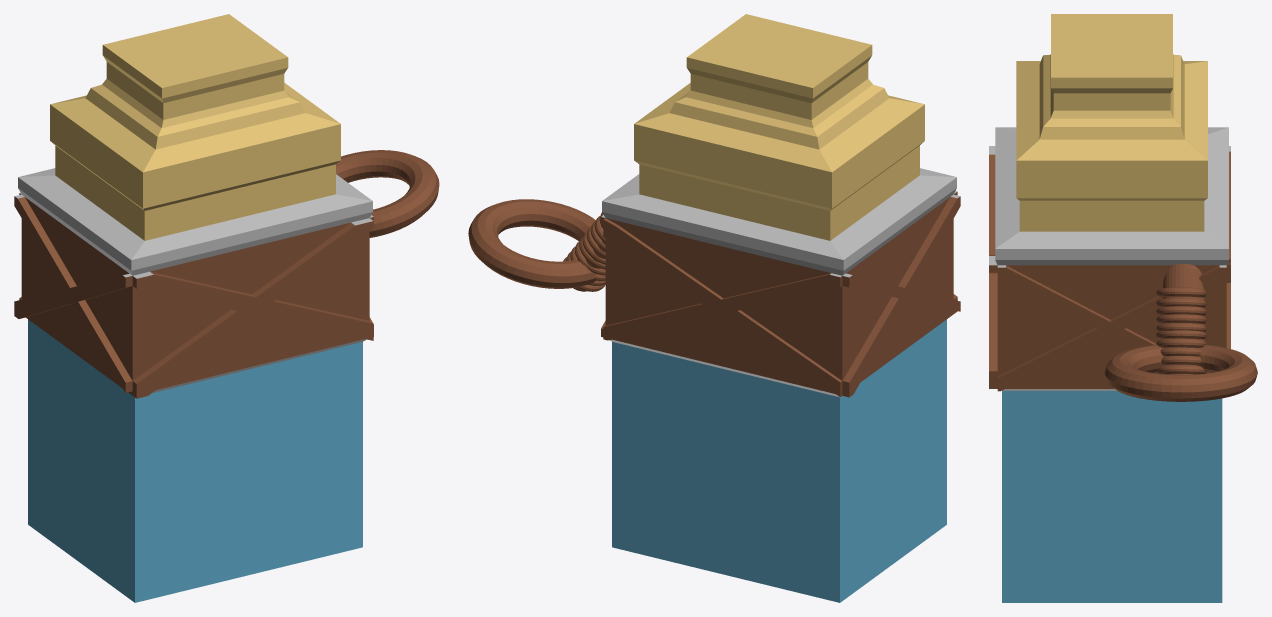
Rendered from potion1.fbx.
3 views of the same model, side by side, from view 1: azimuth 30°, elevation 25°; view 2: azimuth 150°, elevation 25°; view 3: azimuth 270°, elevation 25° (orthographic). The views are drawn at different scales.
Visible parts, largest first — view 1: Plane, Torus.010; view 2: Plane, Torus.010; view 3: Plane, Torus.010.
Boxes of the visible parts, left/top/right/bottom form: Plane: left=14, top=14, right=373, bottom=602; Torus.010: left=336, top=150, right=439, bottom=237; Plane: left=601, top=14, right=960, bottom=602; Torus.010: left=468, top=199, right=605, bottom=291; Plane: left=989, top=14, right=1230, bottom=602; Torus.010: left=1104, top=263, right=1257, bottom=401.
Bounding box in the file's own units: 272 × 321 × 157.
